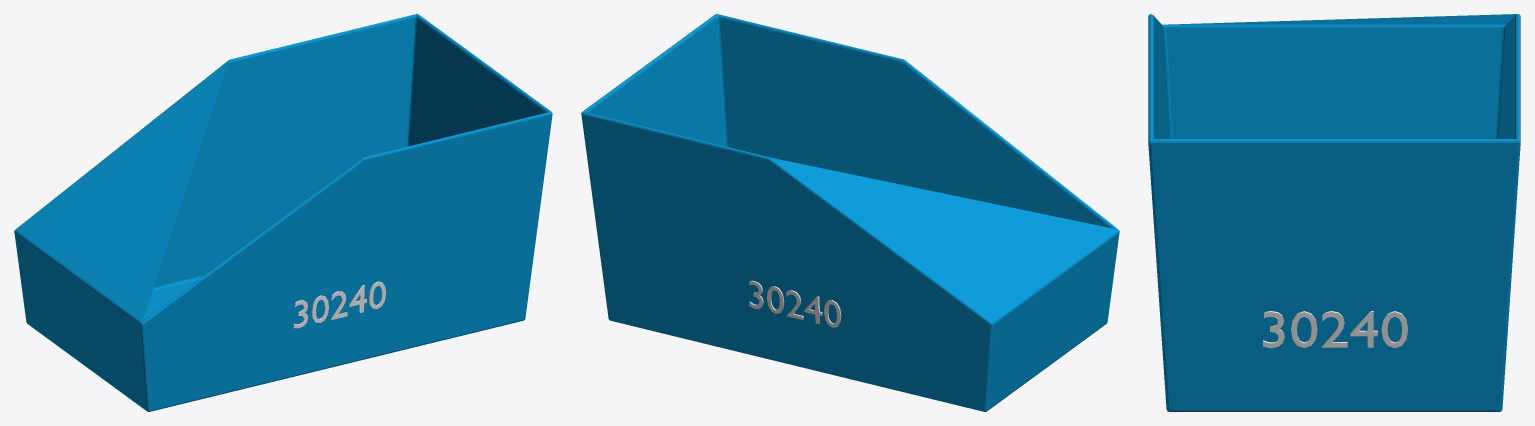
The picture shows the model from 3 angles, left to right: view 1: azimuth 30°, elevation 25°; view 2: azimuth 150°, elevation 25°; view 3: azimuth 270°, elevation 25°; orthographic projection. The views are drawn at different scales.
Parts seen in each view (by area): view 1: us-picking-bin-30240; view 2: us-picking-bin-30240; view 3: us-picking-bin-30240.
Boxes of the visible parts, box(x1,y1,x2,y2) form: us-picking-bin-30240: box(14, 14, 552, 411); us-picking-bin-30240: box(581, 14, 1119, 411); us-picking-bin-30240: box(1148, 14, 1520, 411).
Bounding box in the file's own units: 0.3643 × 0.178 × 0.2098.
